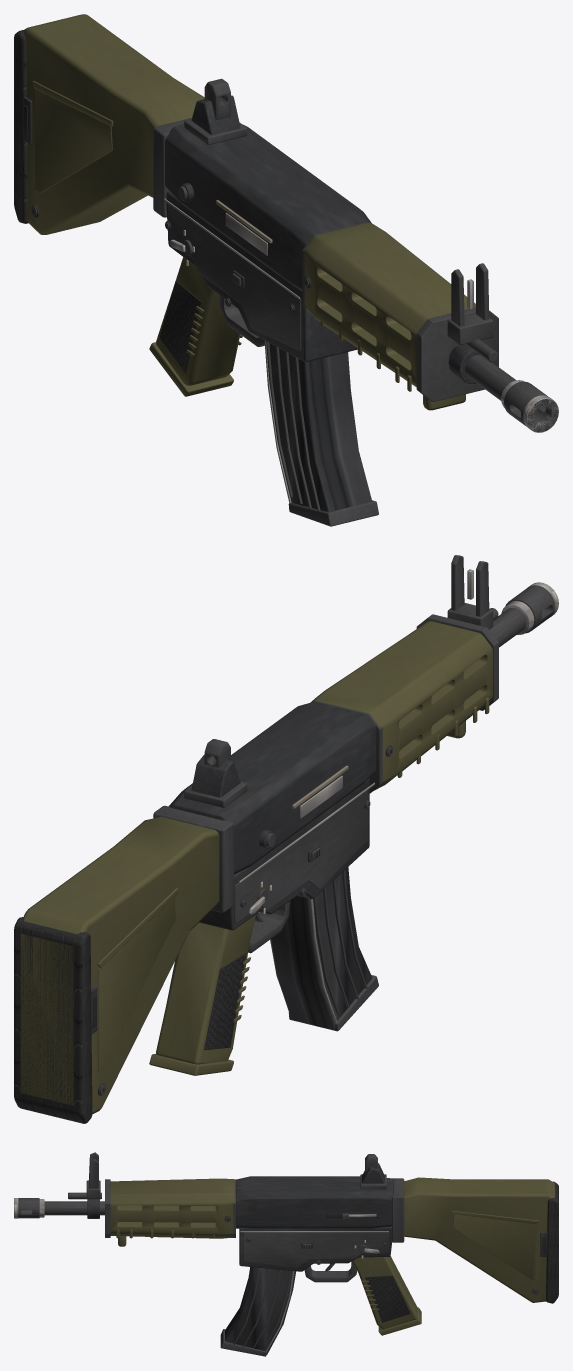
The model's file is SM_TunaWeapon_AR_Standard.fbx.
3 views of the same model, one above another, from view 1: azimuth 30°, elevation 25°; view 2: azimuth 150°, elevation 25°; view 3: azimuth 270°, elevation 25° (orthographic). The views are drawn at different scales.
Parts seen in each view (by area): view 1: SM_TunaWeapon_AR_Standard; view 2: SM_TunaWeapon_AR_Standard; view 3: SM_TunaWeapon_AR_Standard.
Boxes of the visible parts, x1,y1,x2,y2 form: SM_TunaWeapon_AR_Standard: [14, 14, 558, 526]; SM_TunaWeapon_AR_Standard: [14, 555, 558, 1123]; SM_TunaWeapon_AR_Standard: [14, 1152, 558, 1356].
Size of what is drawn, in the model's own units: 7 by 66 by 25.98.
